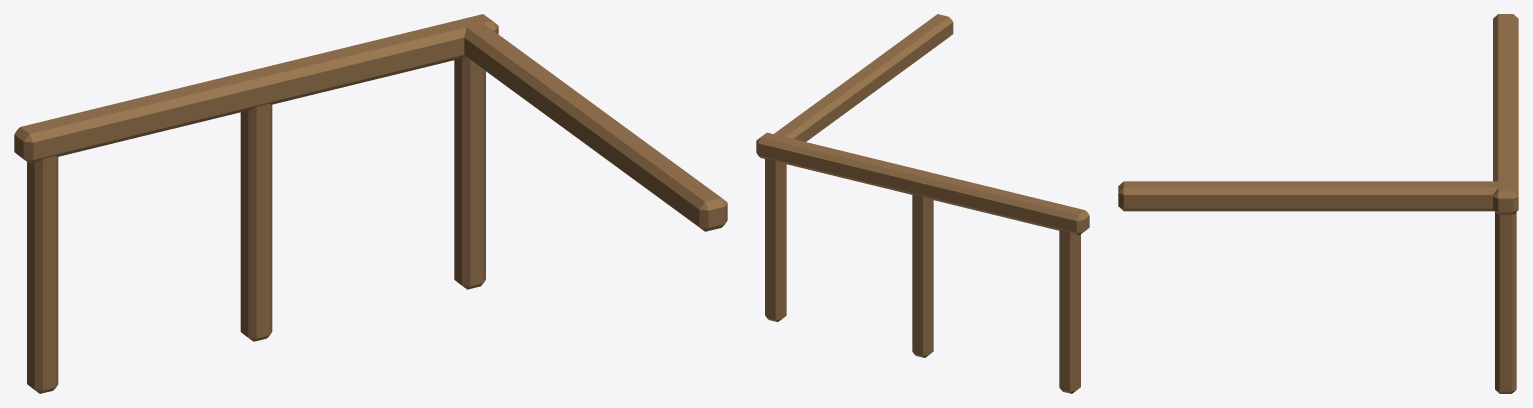
Rendered from harbor-railing-corner.lod0.glb.
3 views of the same model, side by side, from view 1: azimuth 30°, elevation 25°; view 2: azimuth 150°, elevation 25°; view 3: azimuth 270°, elevation 25° (orthographic). The views are drawn at different scales.
Visible parts, largest first — view 1: harbor-railing-corner__body; view 2: harbor-railing-corner__body; view 3: harbor-railing-corner__body.
Part boxes in pixels (<box>): harbor-railing-corner__body: <box>14,14,727,393</box>; harbor-railing-corner__body: <box>756,14,1089,393</box>; harbor-railing-corner__body: <box>1118,14,1518,393</box>.
Size of the model in its own units: 2 by 1.06 by 1.86.
